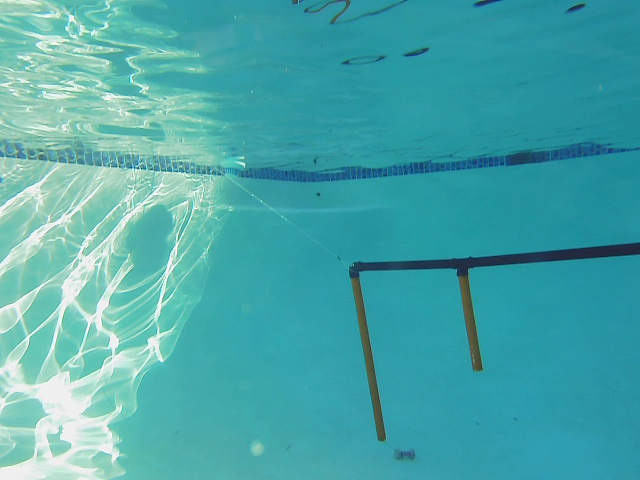Gate: (347, 273, 388, 446), (456, 270, 483, 372)
